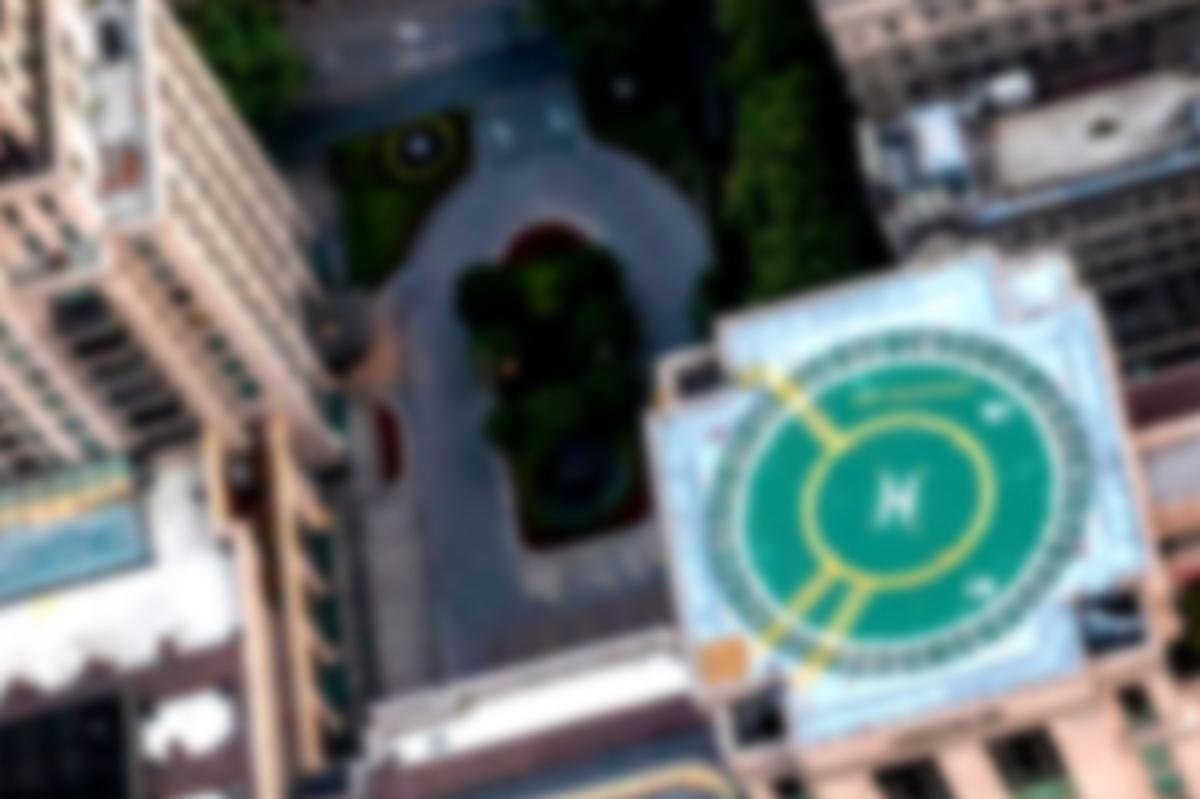Apron: (796, 409, 1017, 602)
